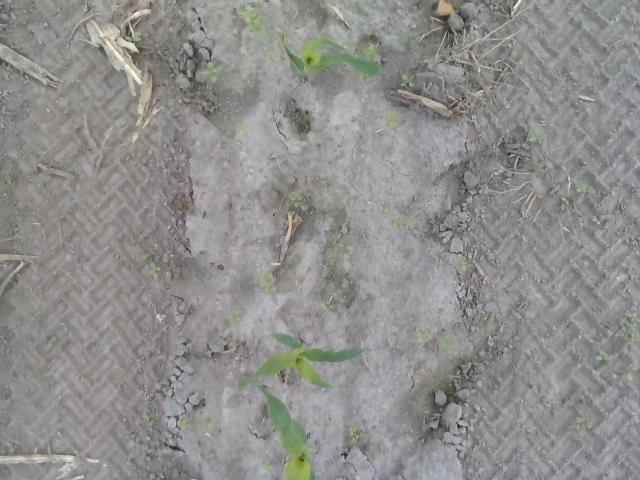Maize: (236, 323, 368, 390), (253, 379, 316, 480), (280, 31, 382, 82)
Weeds: (237, 7, 271, 42), (619, 306, 640, 342), (258, 269, 279, 294), (178, 416, 215, 430), (200, 61, 223, 83), (610, 370, 638, 386), (349, 423, 368, 444), (144, 256, 160, 280), (360, 46, 378, 63), (528, 130, 548, 144), (442, 333, 456, 351), (288, 190, 302, 207), (594, 349, 609, 363), (402, 73, 416, 88), (574, 416, 588, 430), (576, 184, 594, 194), (387, 110, 398, 126), (455, 258, 468, 270), (321, 300, 334, 312), (228, 311, 242, 322), (266, 53, 278, 65), (237, 124, 250, 135), (132, 30, 142, 44)
